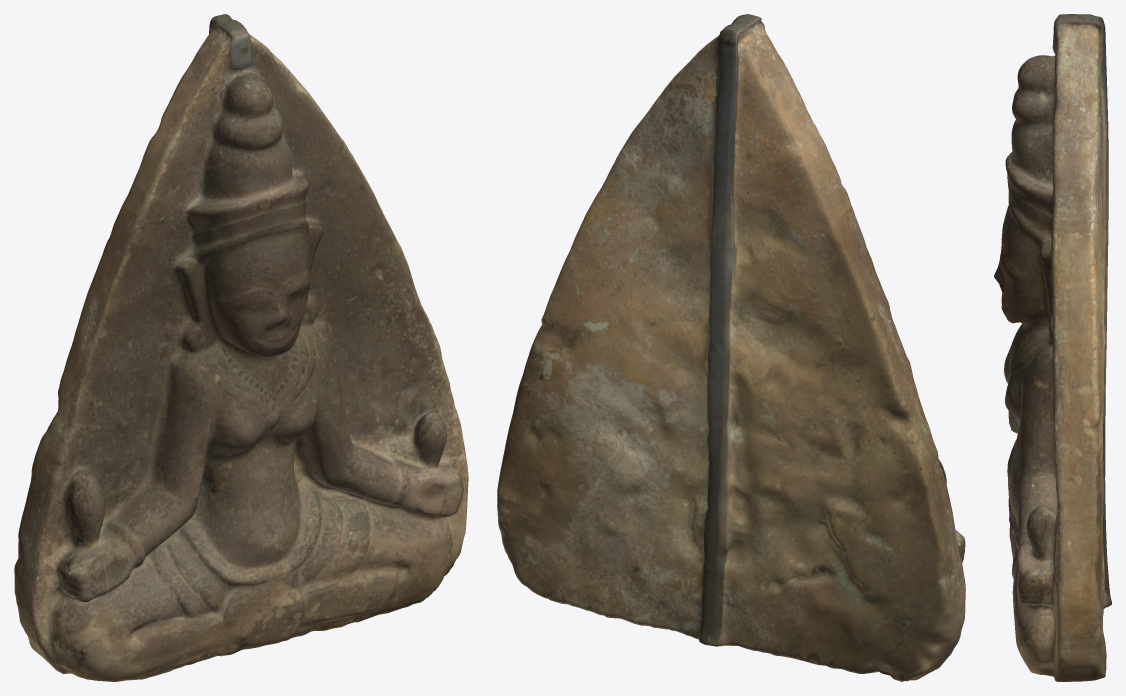
The model's file is 27_laskmi_final.glb.
The picture shows the model from 3 angles, left to right: view 1: azimuth 30°, elevation 25°; view 2: azimuth 150°, elevation 25°; view 3: azimuth 270°, elevation 25°; orthographic projection. The views are drawn at different scales.
Size of the model in its own units: 0.4382 by 0.5803 by 0.1059.
1 material, 1 textured.
